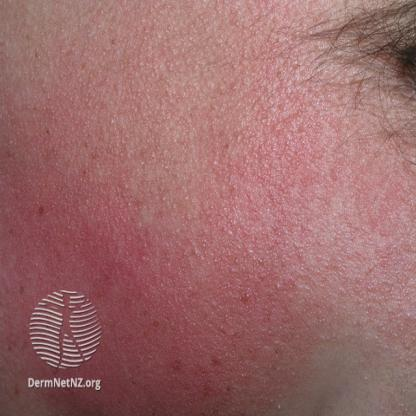Chicken Skin: (20, 10, 303, 289)
